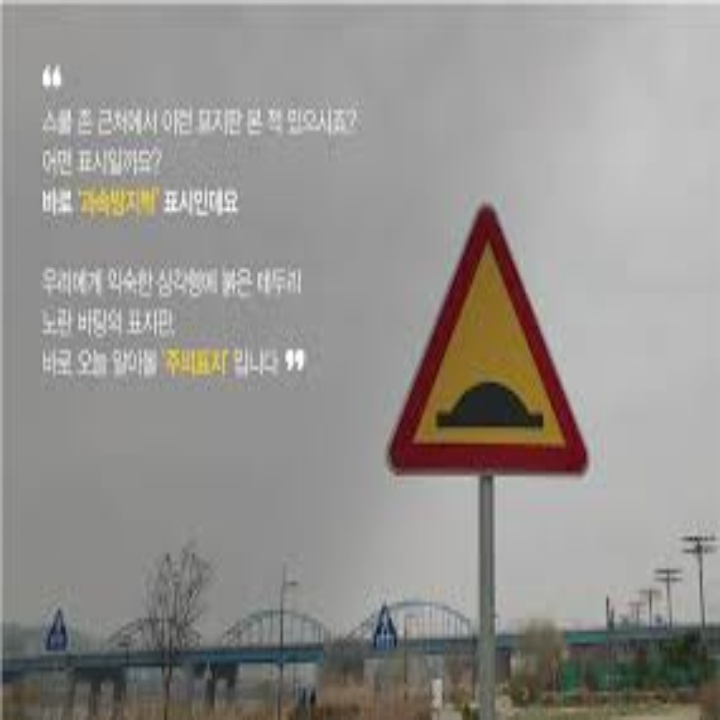bump: (429, 374, 553, 440)
